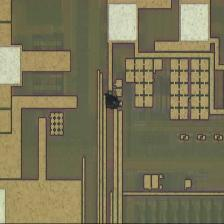PARTICLE: (102, 91, 125, 113)
